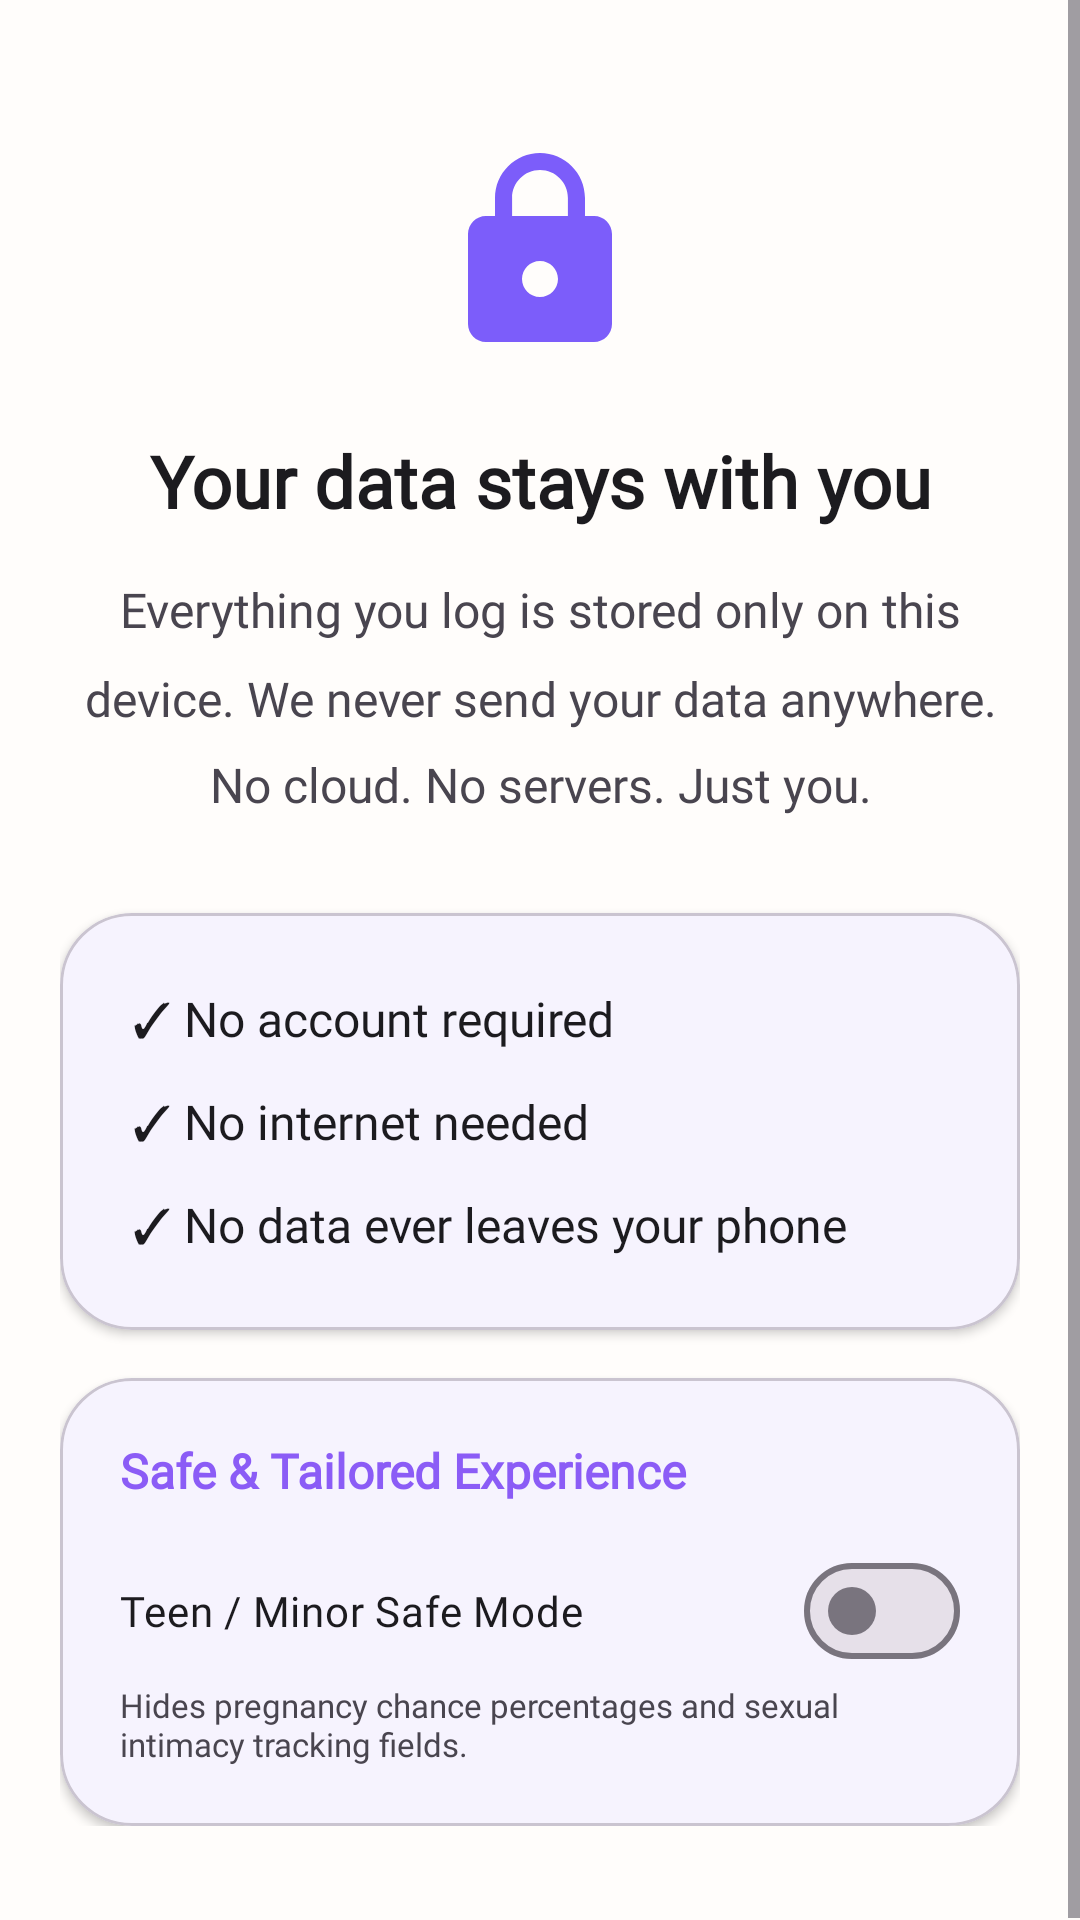

Icons on this 1080×1920 Android screen, each with its box as [x1, y1, x2, y2]:
Privacy Lock: [468, 153, 612, 342]
